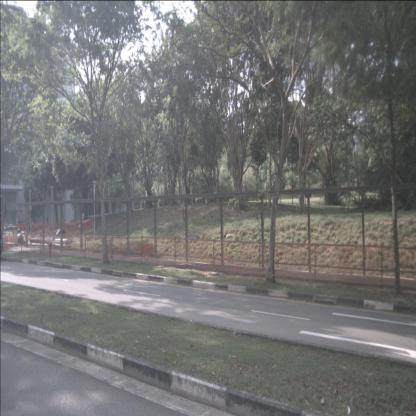human-pedestrian-adult: (17, 229, 27, 246)
